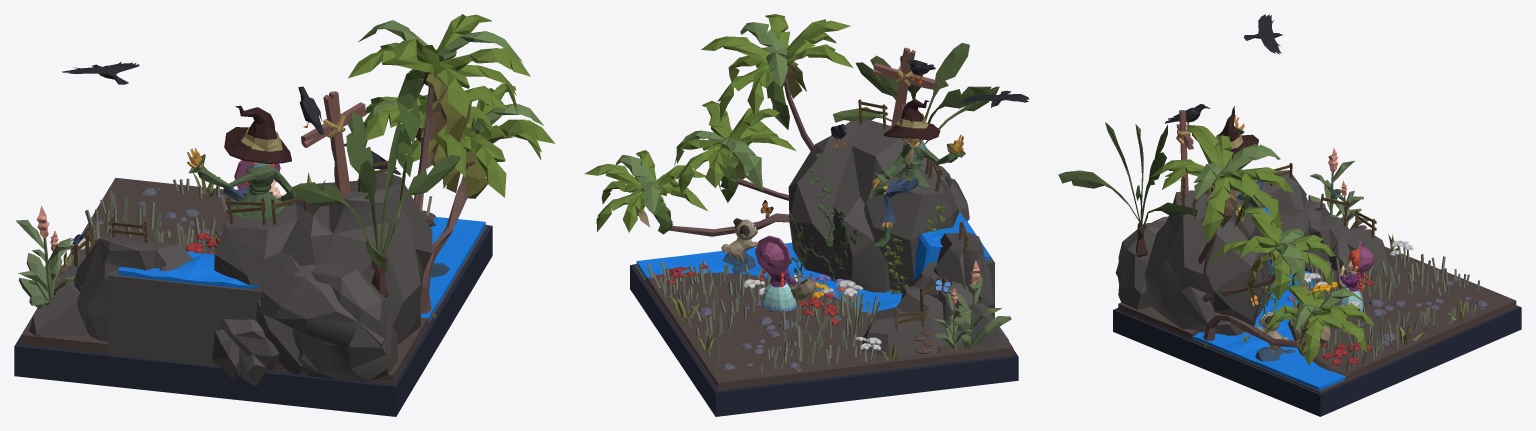
The model's file is Daocaoren_Chai_2(1).FBX.
3 renders of one model, left to right at view 1: azimuth 30°, elevation 25°; view 2: azimuth 150°, elevation 25°; view 3: azimuth 270°, elevation 25°, orthographic. The views are drawn at different scales.
Parts seen in each view (by area): view 1: Daocaoren518, Daocaoren504, Daocaoren521, Daocaoren506, Daocaoren508, Daocaoren471, Daocaoren477, Daocaoren520, Daocaoren457, Daocaoren524, Daocaoren463, Daocaoren503 (+21 smaller); view 2: Daocaoren518, Daocaoren508, Daocaoren504, Daocaoren419, Daocaoren471, Daocaoren519, Daocaoren463, Daocaoren477, Daocaoren457, Daocaoren503, Daocaoren520, Daocaoren485 (+26 smaller); view 3: Daocaoren518, Daocaoren504, Daocaoren508, Daocaoren471, Daocaoren419, Daocaoren503, Daocaoren463, Daocaoren457, Daocaoren477, Daocaoren519, Daocaoren521, Daocaoren472 (+12 smaller).
Part boxes in pixels (bbox=[...]): Daocaoren518: bbox=[214, 170, 432, 374]; Daocaoren504: bbox=[14, 187, 492, 416]; Daocaoren521: bbox=[256, 262, 397, 382]; Daocaoren506: bbox=[108, 271, 261, 366]; Daocaoren508: bbox=[21, 177, 435, 351]; Daocaoren471: bbox=[348, 14, 530, 118]; Daocaoren477: bbox=[292, 111, 461, 271]; Daocaoren520: bbox=[74, 236, 194, 341]; Daocaoren457: bbox=[407, 83, 555, 197]; Daocaoren524: bbox=[212, 319, 279, 386]; Daocaoren463: bbox=[366, 86, 507, 177]; Daocaoren503: bbox=[421, 217, 485, 321]; Daocaoren518: bbox=[788, 120, 959, 293]; Daocaoren508: bbox=[645, 272, 1013, 388]; Daocaoren504: bbox=[630, 264, 1018, 416]; Daocaoren419: bbox=[647, 260, 882, 373]; Daocaoren471: bbox=[701, 14, 853, 121]; Daocaoren519: bbox=[861, 286, 1008, 356]; Daocaoren463: bbox=[676, 101, 796, 193]; Daocaoren477: bbox=[833, 43, 999, 144]; Daocaoren457: bbox=[584, 150, 708, 232]; Daocaoren503: bbox=[636, 242, 902, 313]; Daocaoren520: bbox=[933, 232, 994, 315]; Daocaoren485: bbox=[873, 141, 965, 187]; Daocaoren518: bbox=[1144, 188, 1272, 335]; Daocaoren504: bbox=[1113, 305, 1521, 416]; Daocaoren508: bbox=[1288, 247, 1516, 380]; Daocaoren471: bbox=[1150, 125, 1293, 242]; Daocaoren419: bbox=[1289, 244, 1479, 372]; Daocaoren503: bbox=[1192, 271, 1345, 390]; Daocaoren463: bbox=[1208, 207, 1334, 300]; Daocaoren457: bbox=[1261, 284, 1375, 365]; Daocaoren477: bbox=[1058, 122, 1197, 230]; Daocaoren519: bbox=[1305, 216, 1390, 272]; Daocaoren521: bbox=[1115, 216, 1167, 309]; Daocaoren472: bbox=[1193, 144, 1280, 199].
Bounding box in the file's own units: 33.32 × 19.62 × 34.81.
